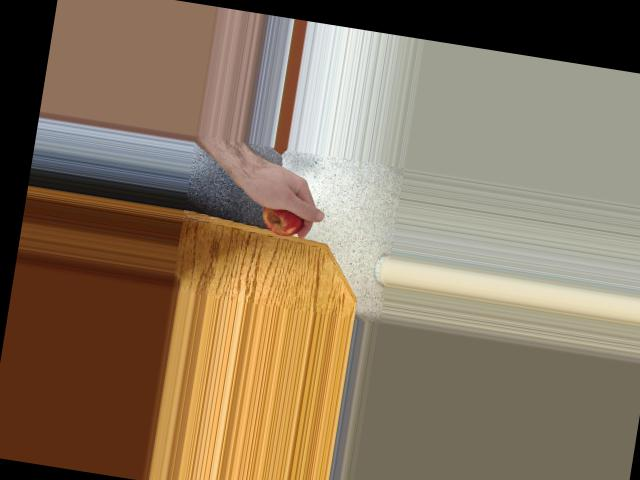apple: (250, 187, 311, 239)
